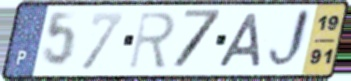5: (41, 10, 79, 73)
7: (173, 7, 225, 73), (83, 10, 126, 72)
A: (216, 11, 264, 70)
J: (265, 7, 314, 74)
R: (126, 10, 177, 72)
